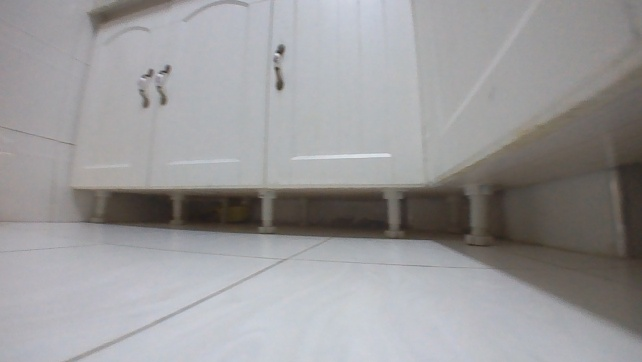cupboard: (64, 0, 641, 240)
